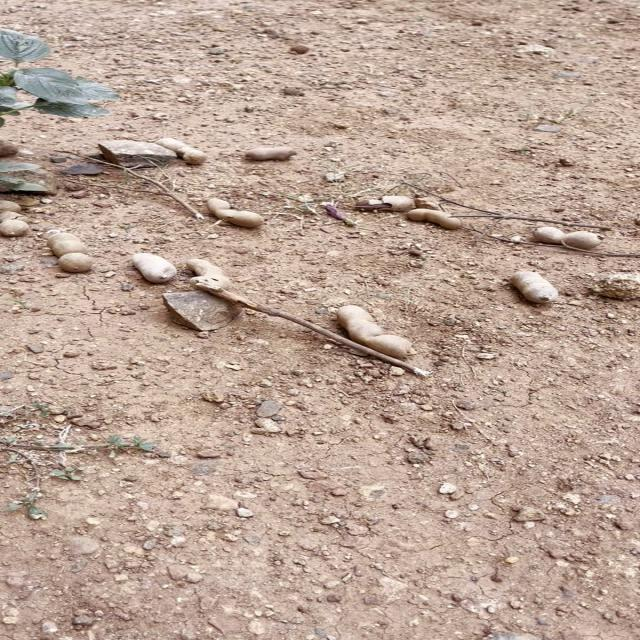tamarind: (328, 301, 414, 357), (196, 190, 272, 227), (34, 229, 99, 270), (526, 220, 612, 250), (507, 270, 562, 308), (128, 249, 181, 279), (404, 208, 474, 230), (189, 255, 231, 291), (0, 202, 38, 238)
